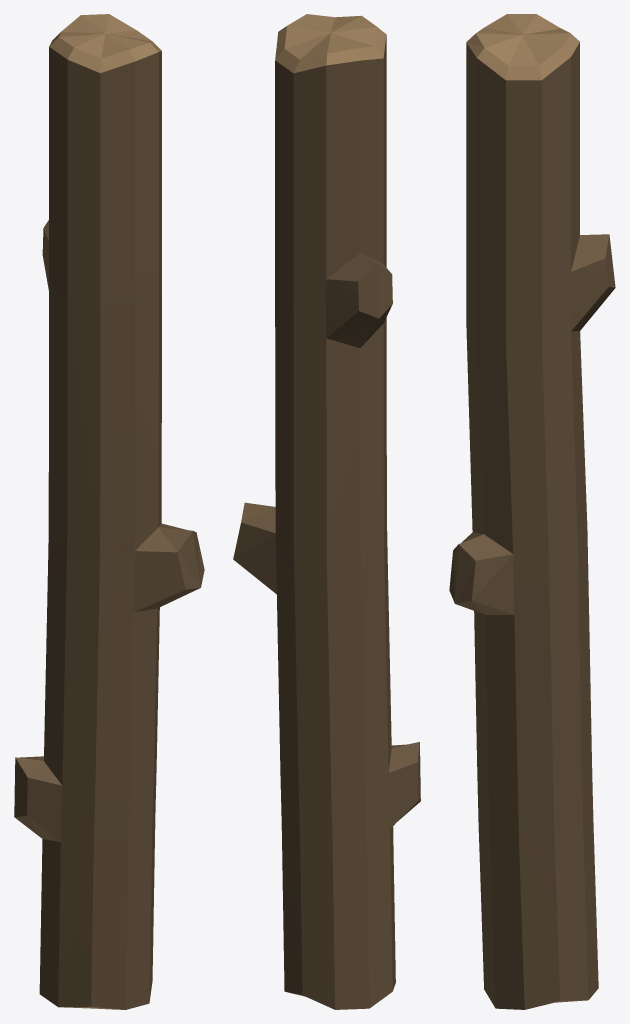
Rendered from Espiga_07.glb.
3 views of the same model, side by side, from view 1: azimuth 30°, elevation 25°; view 2: azimuth 210°, elevation 25°; view 3: azimuth 270°, elevation 25° (orthographic).
Parts seen in each view (by area): view 1: SM_Prop_Fence_Wood_Pole_04_1; view 2: SM_Prop_Fence_Wood_Pole_04_1; view 3: SM_Prop_Fence_Wood_Pole_04_1.
Boxes of the visible parts, box(x1,y1,x2,y2) form: SM_Prop_Fence_Wood_Pole_04_1: box(14, 14, 204, 1009); SM_Prop_Fence_Wood_Pole_04_1: box(233, 14, 420, 1009); SM_Prop_Fence_Wood_Pole_04_1: box(449, 14, 615, 1009).
Bounding box in the file's own units: 0.6866 × 4.43 × 0.6921.
1 material, 1 textured.
